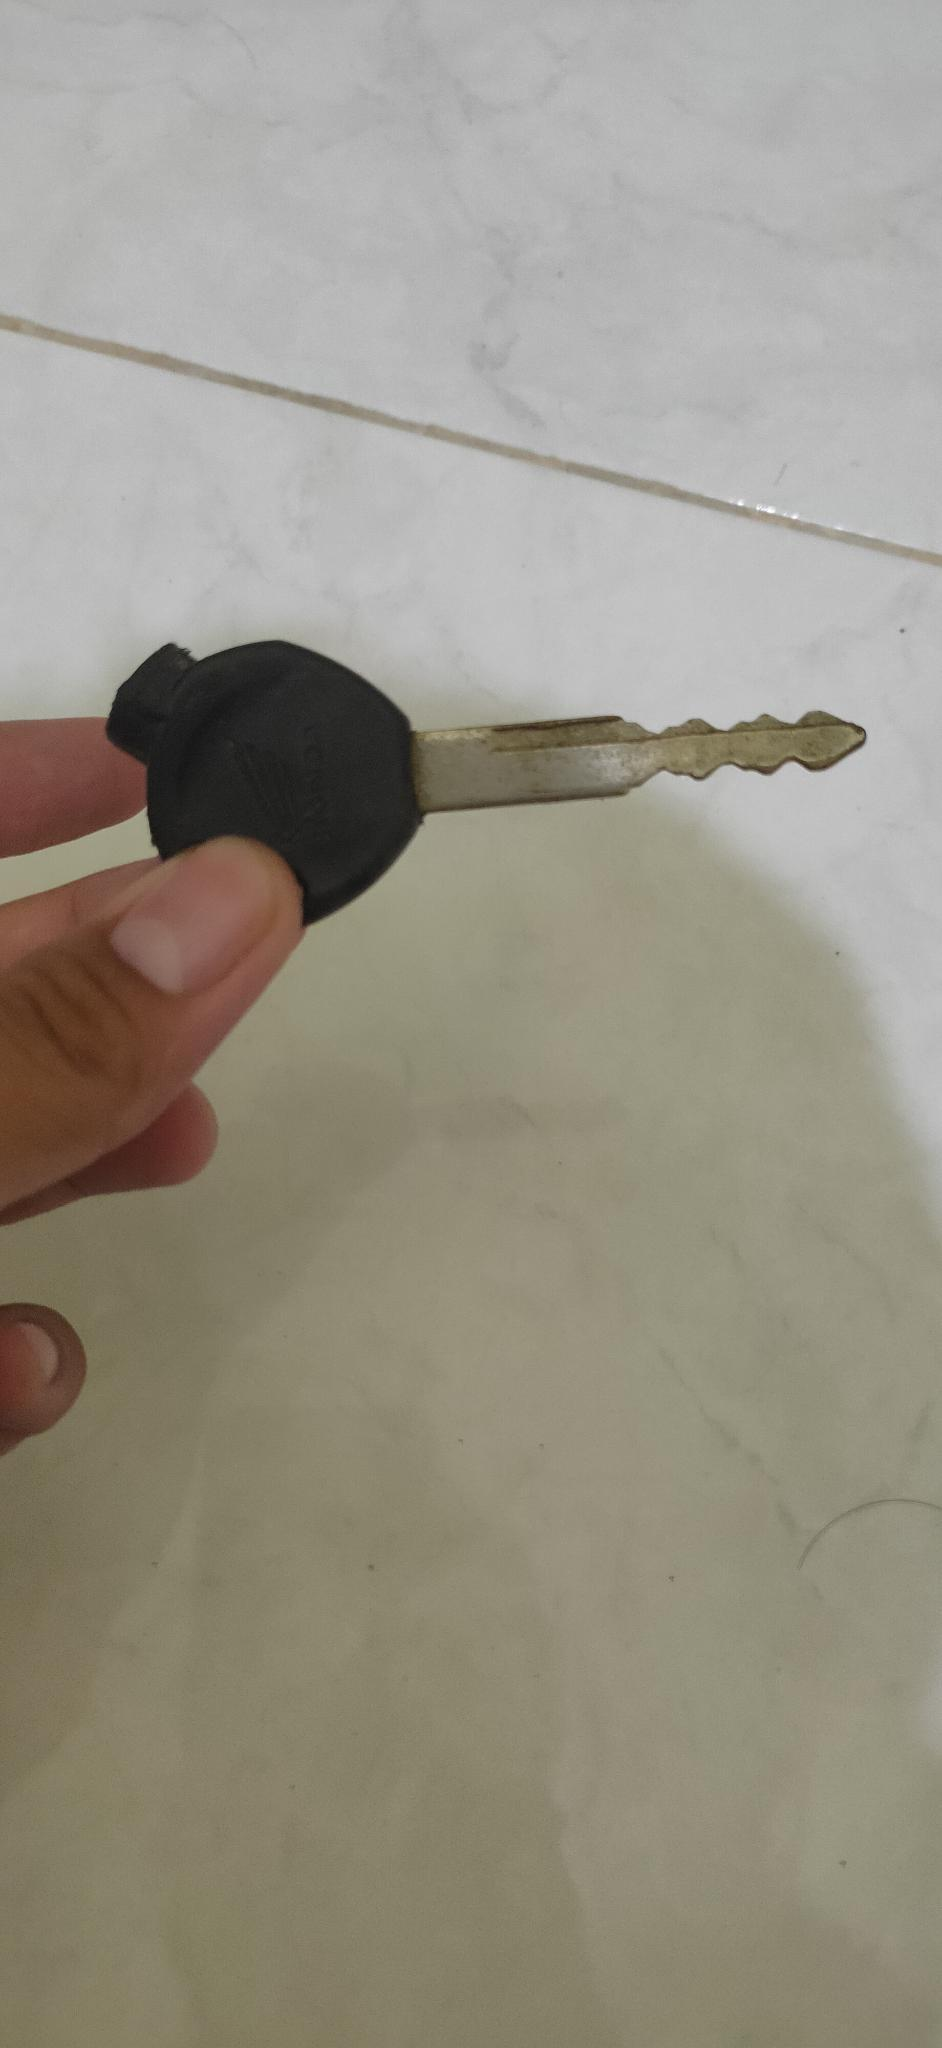keys: (99, 596, 886, 957)
